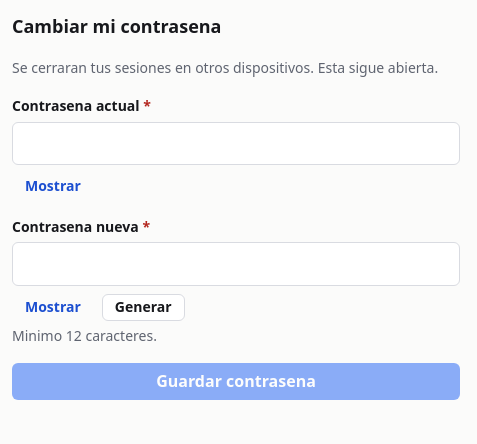
Scenario: CambiarContrasena › un 400 marca el campo que nombra el api y no avisa de exito
Type "no es la mia" into the password field labelled "Contrasena actual *" at [236, 143], box [12,122,460,165]
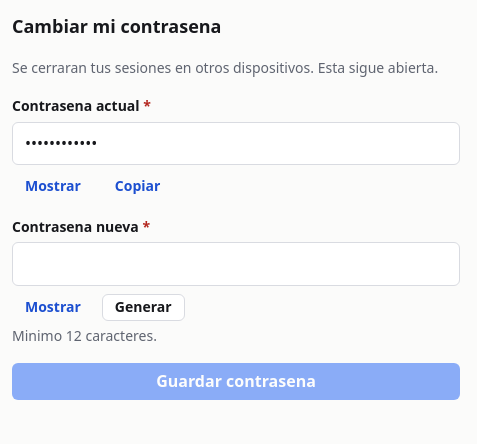
Type "la nueva bien larga" into the password field labelled "Contrasena nueva *" at [236, 264], box [12,242,460,286]
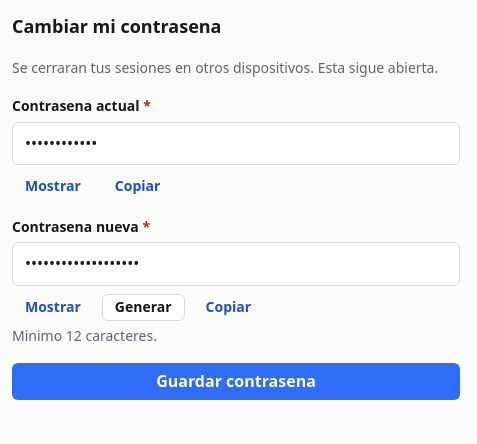
Submit the form
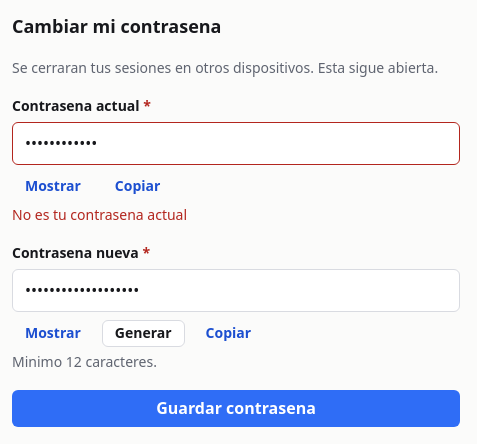
Result: the text "No es tu contrasena actual" is shown at [12,205,187,224]
